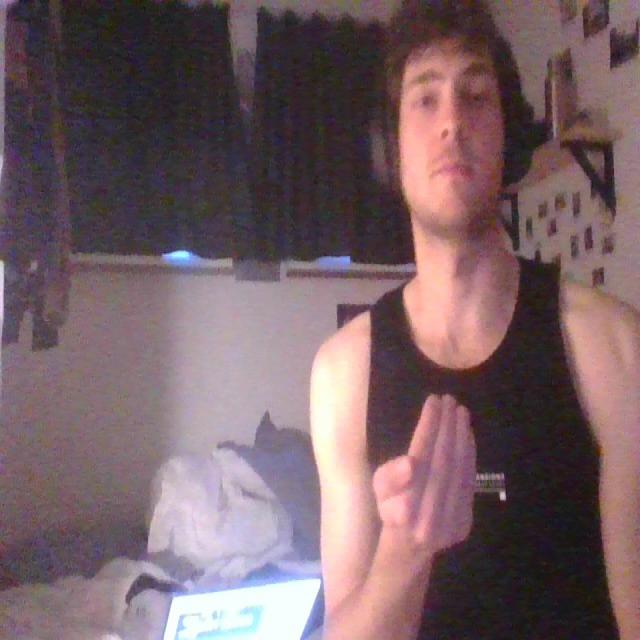forward: (372, 390, 480, 559)
